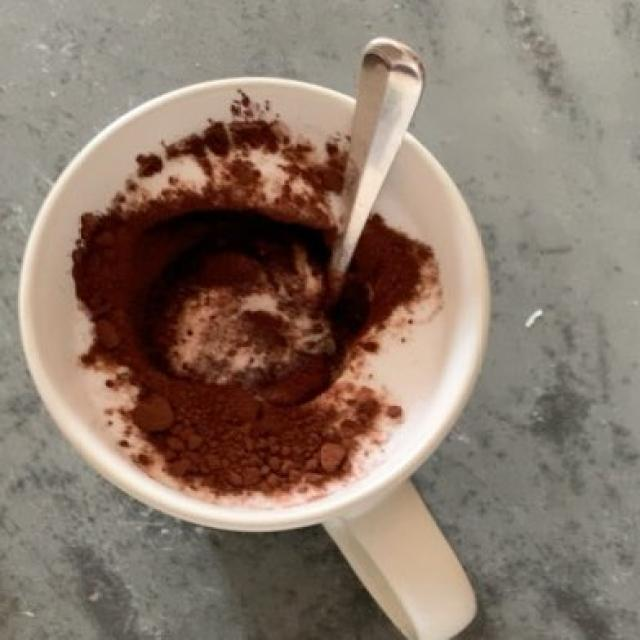cocoa-powder: (73, 104, 427, 490)
